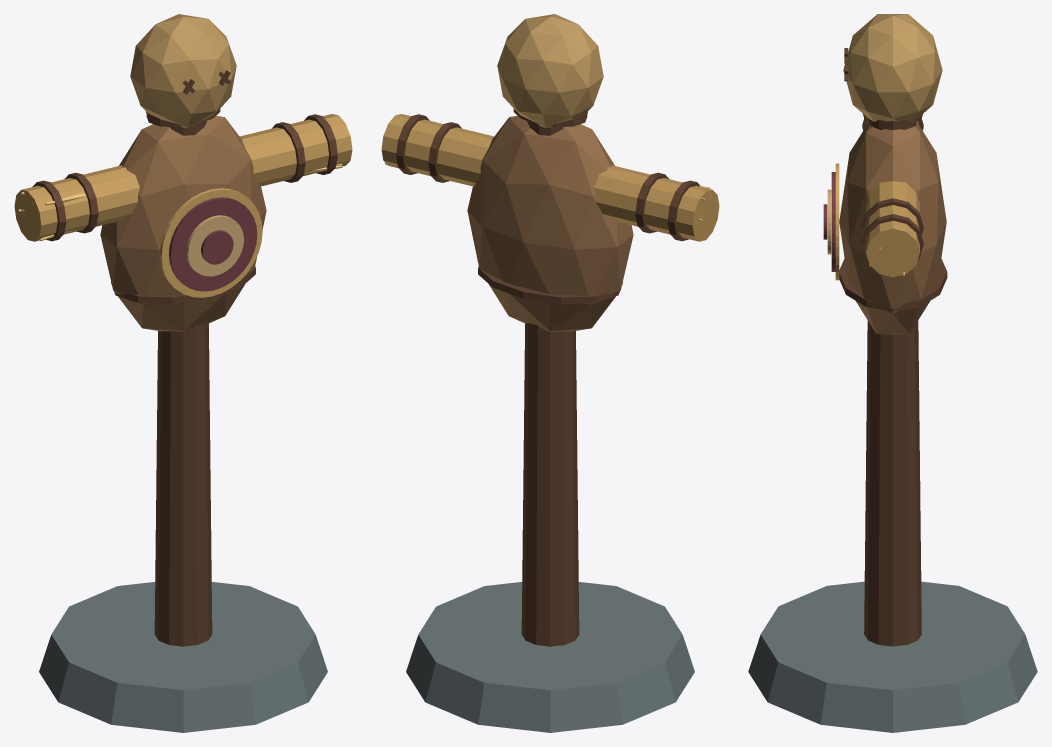
File: boneco-de-palha.glb
The picture shows the model from 3 angles, left to right: view 1: azimuth 30°, elevation 25°; view 2: azimuth 150°, elevation 25°; view 3: azimuth 270°, elevation 25°; orthographic projection.
Visible parts, largest first — view 1: boneco-de-palha; view 2: boneco-de-palha; view 3: boneco-de-palha.
Boxes of the visible parts, x1,y1,x2,y2 form: boneco-de-palha: (14, 14, 352, 732); boneco-de-palha: (381, 14, 719, 732); boneco-de-palha: (748, 14, 1037, 732).
Size of the model in its own units: 0.8888 by 1.75 by 0.7.
